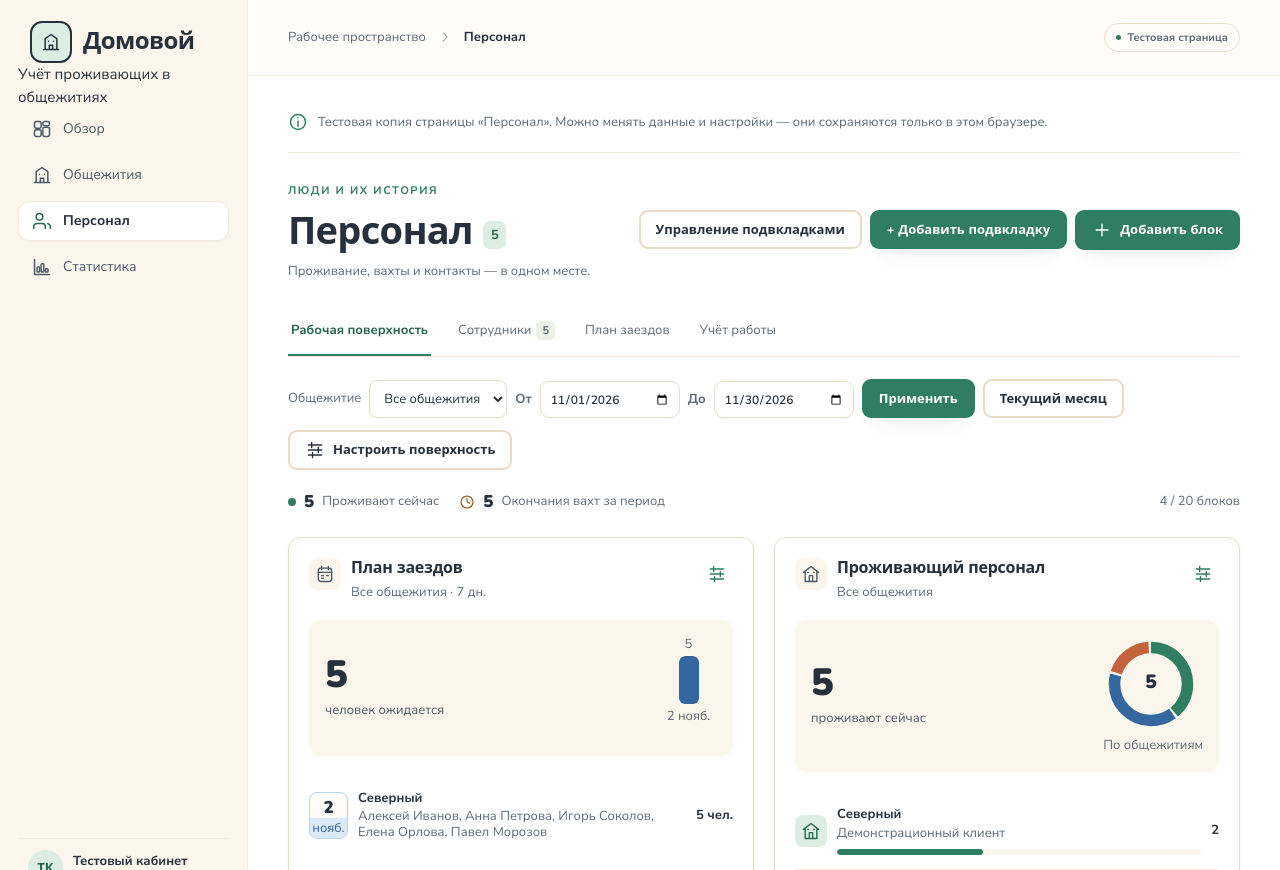
Test: Конструктор на штатной странице проекта › показывает исходную рабочую поверхность, список и отдельный план с четвёртой вкладкой без запросов в сервер
This screenshot has width=1280, height=870.
Check: the button "Настроить поверхность" is shown, box [288,430,512,470]
Click the tab "Сотрудники5" at [506, 332], box [455,307,558,356]
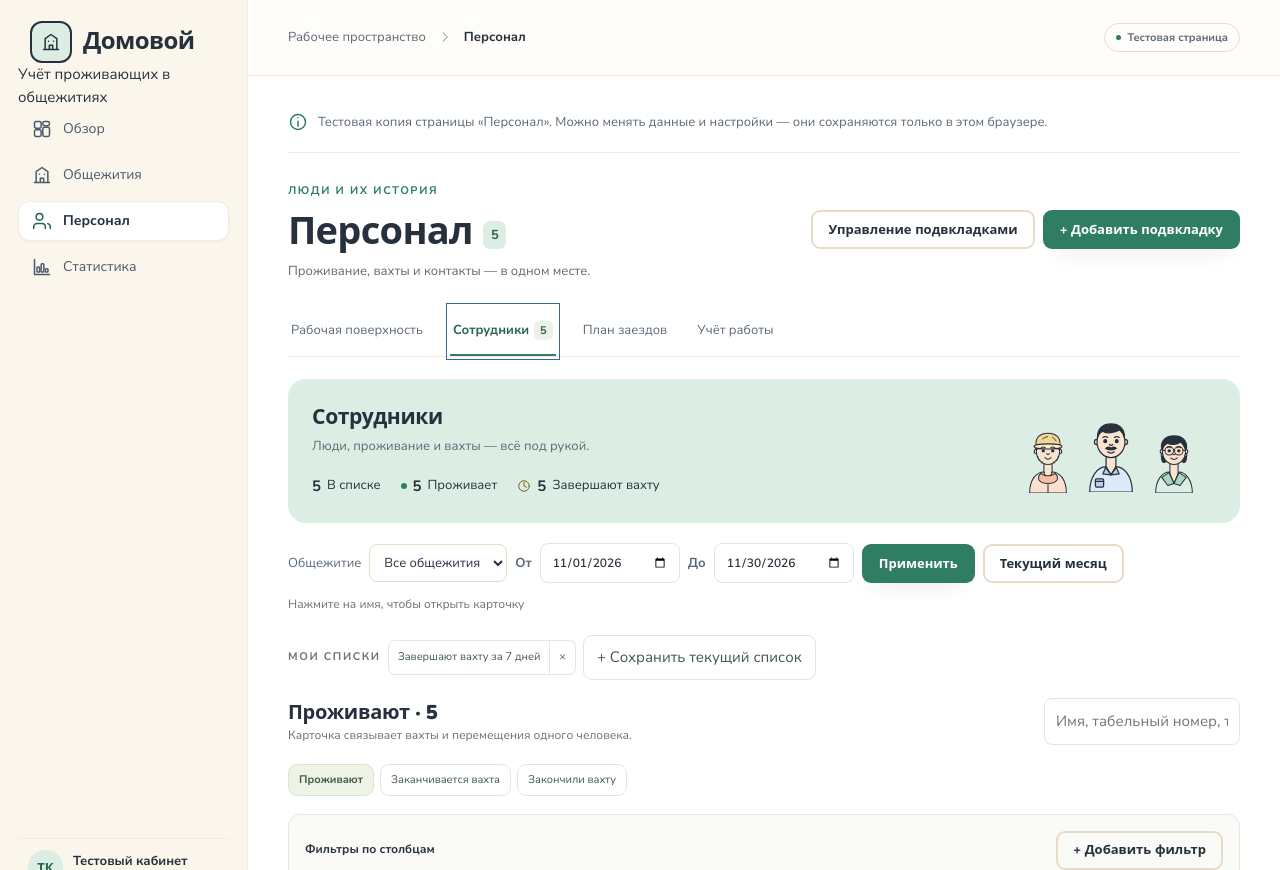
Check: the heading "Сотрудники" is shown, box [312,403,443,431]
Check: the field named "Поиск сотрудника" is shown, box [1044,698,1240,745]
Click the tab "План заездов" at [625, 332], box [580,307,670,356]
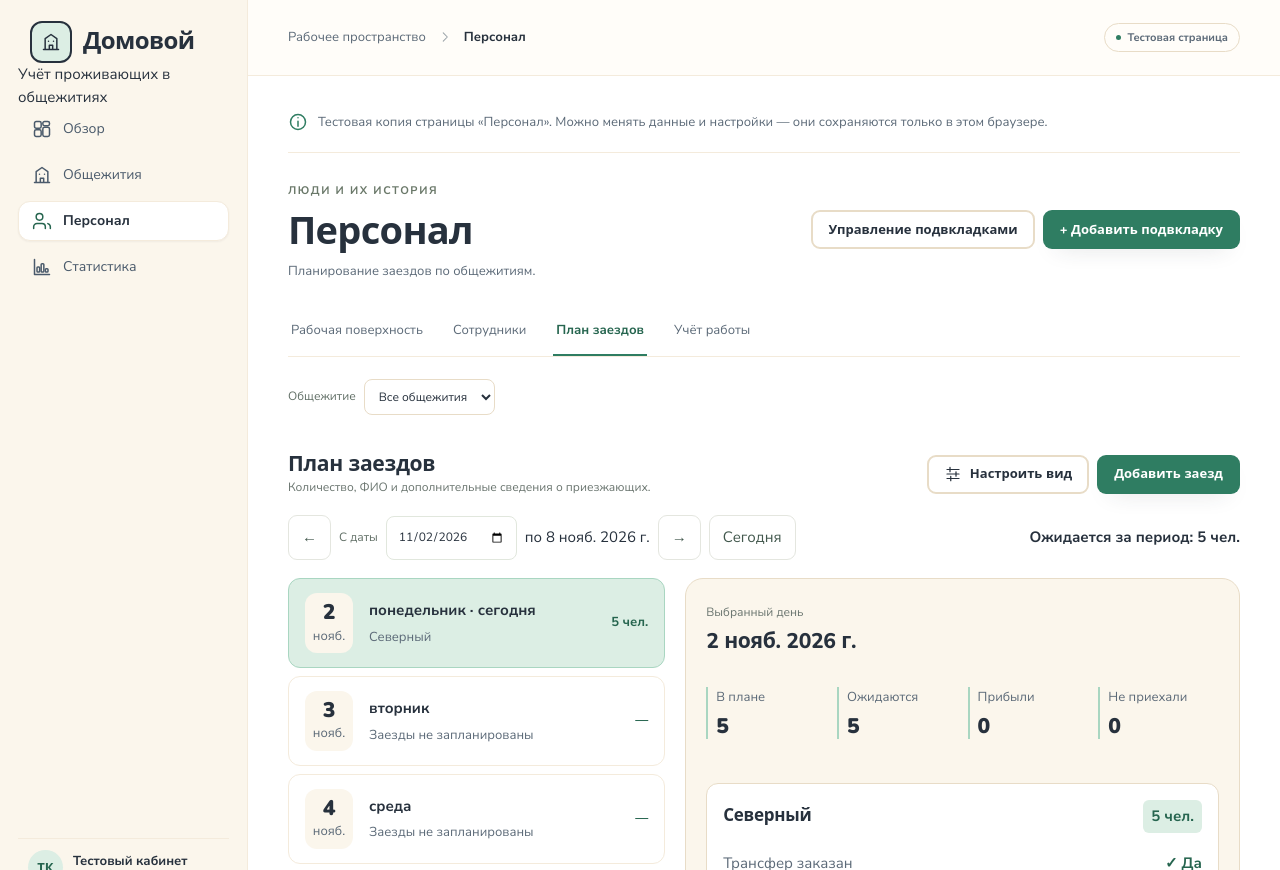
Click the button "Настроить вид" at [1008, 474], box [927,455,1089,494]
(page scrolled)
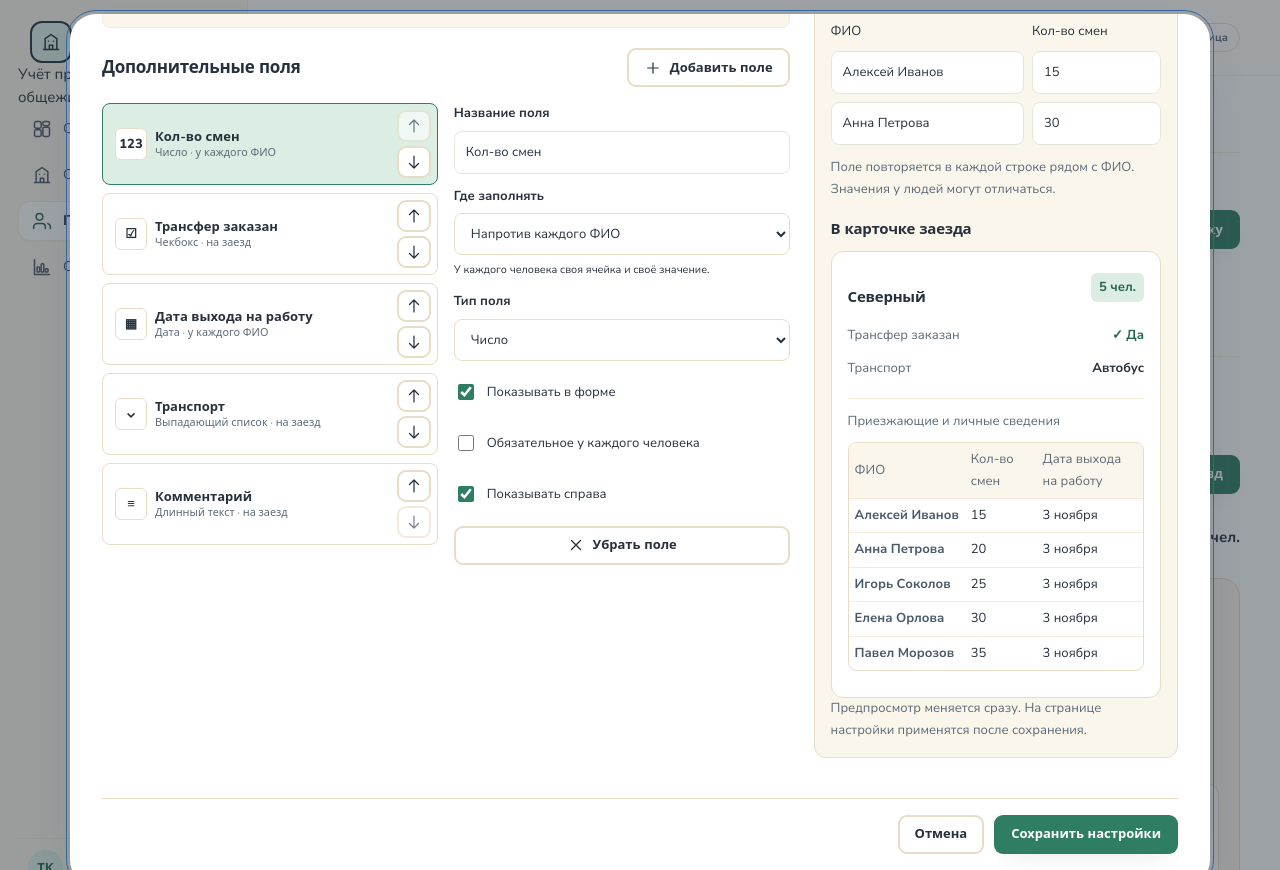
Click the button "Отмена" at [941, 835], box [898,815,984,854]
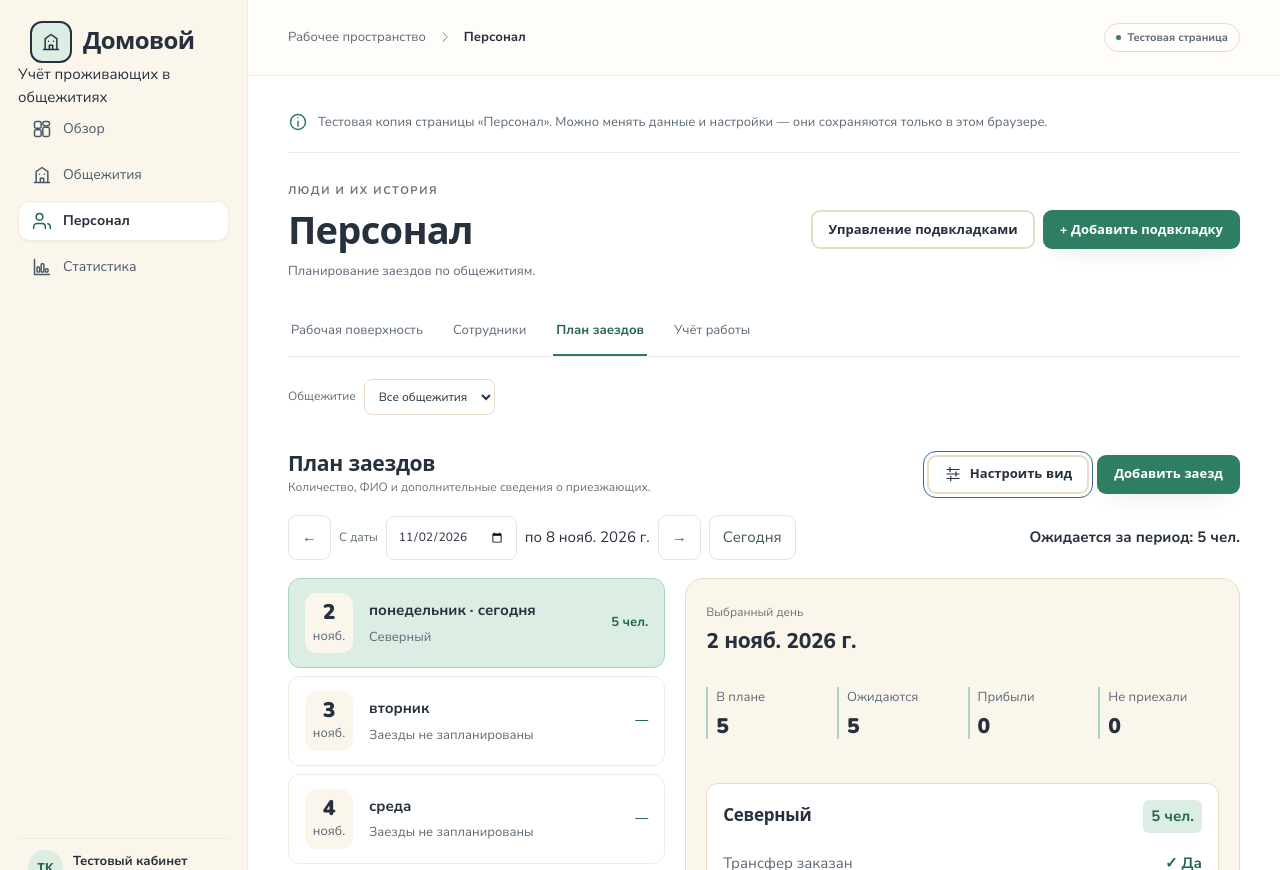
Click the tab "Учёт работы" at [712, 332], box [671,307,753,356]
(page scrolled)
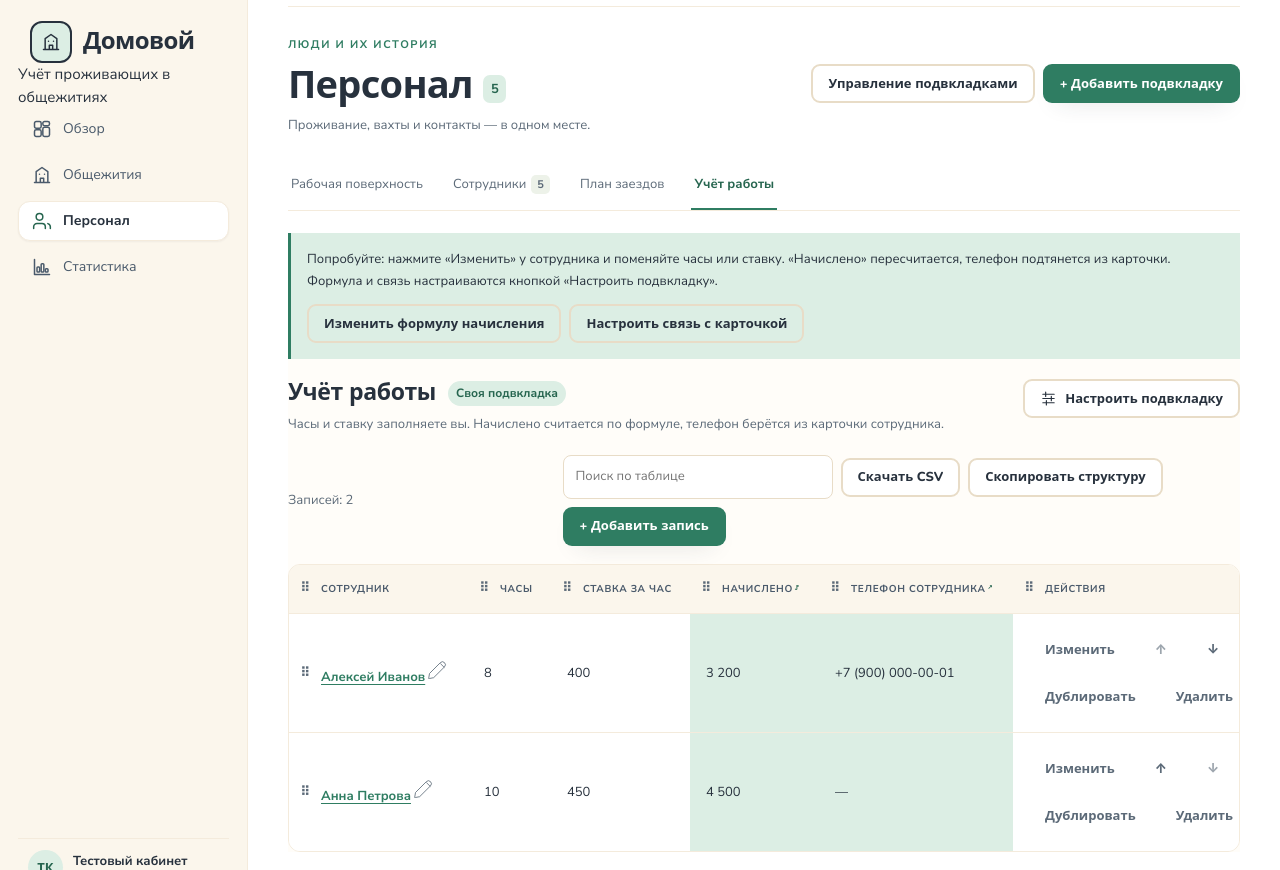
Check: the table named "Учёт работы" is shown, box [289,565,1240,851]
